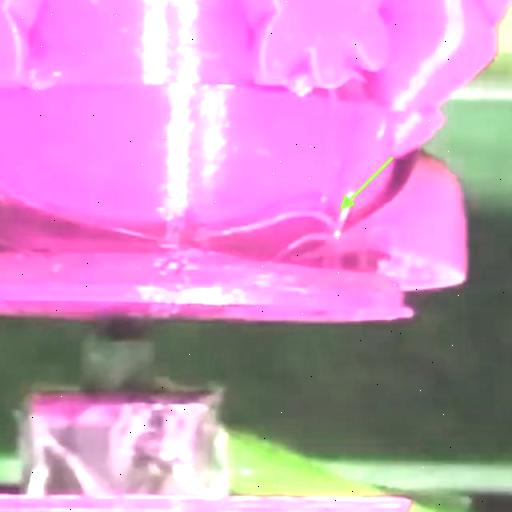spaghetti: (176, 202, 344, 276)
